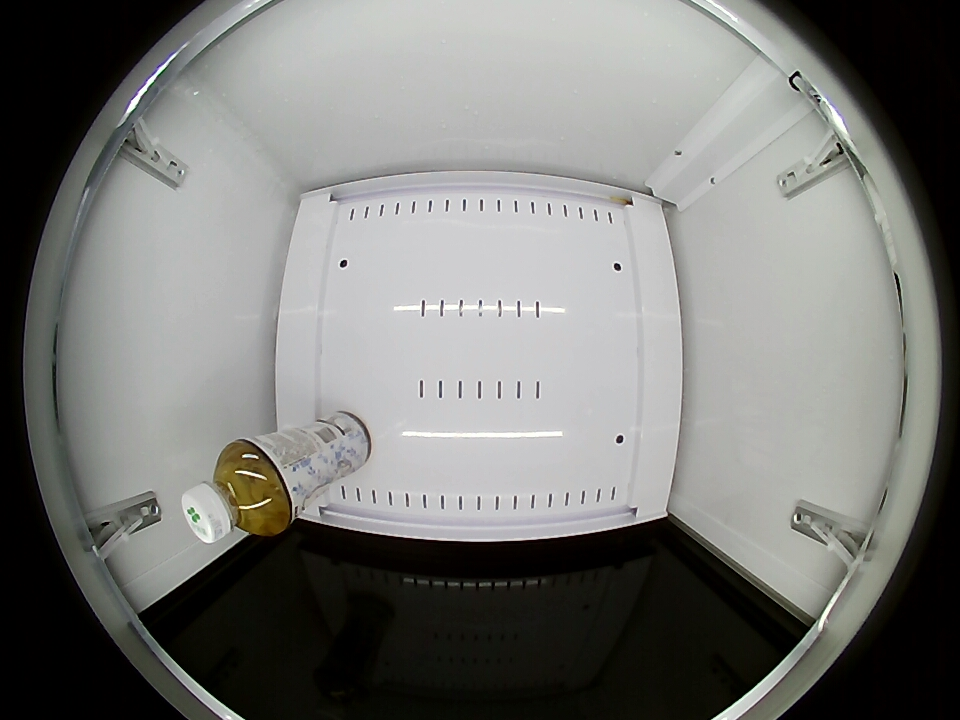baicha: (182, 440, 292, 543)
